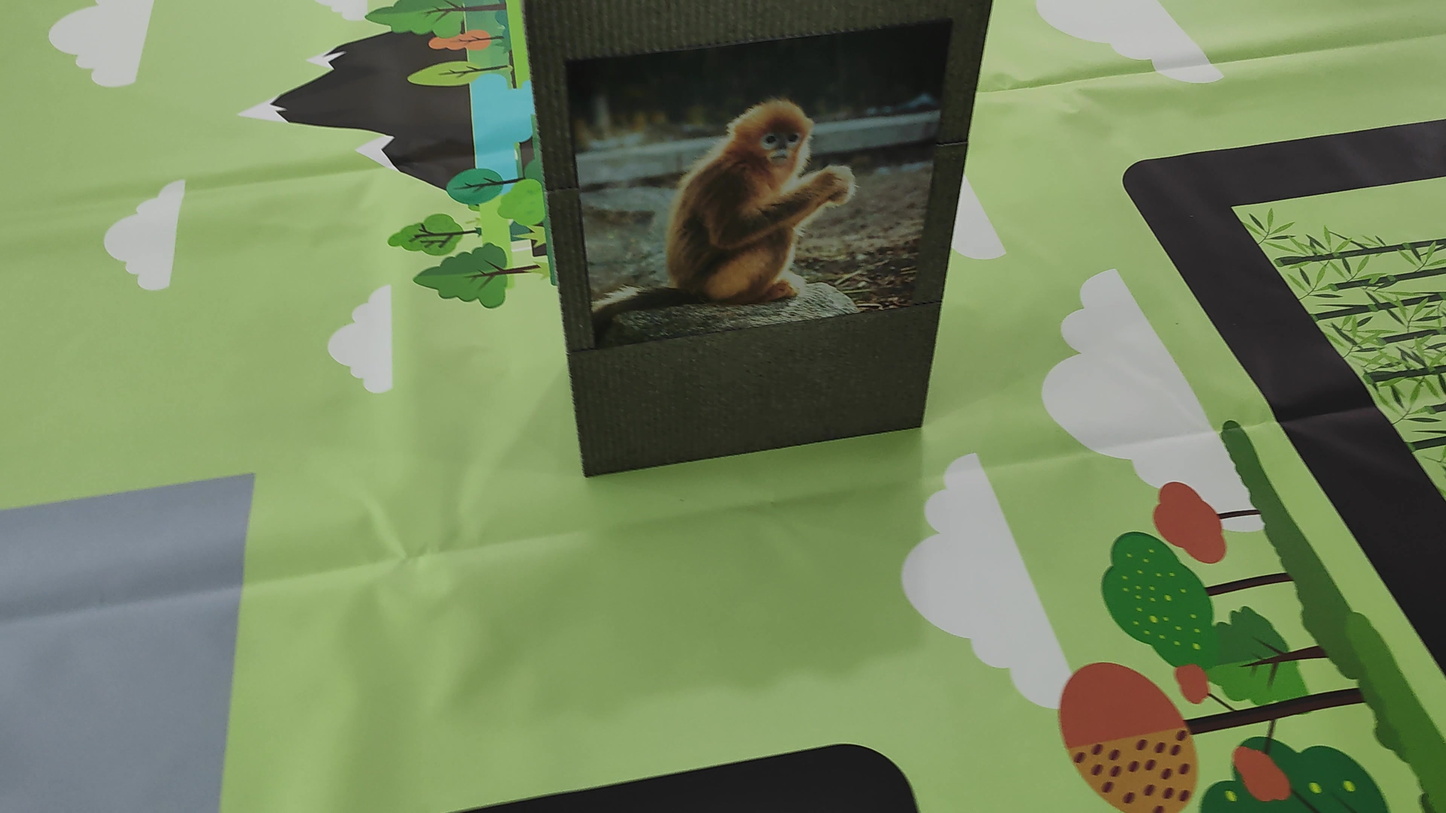monkey: (638, 73, 881, 312)
